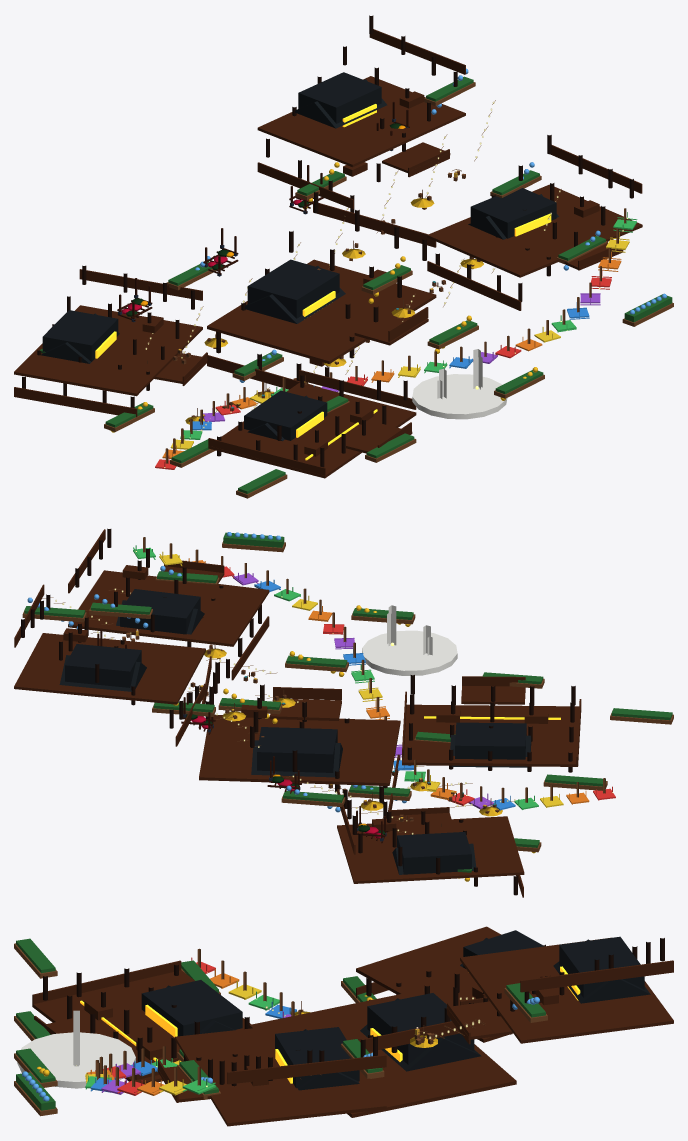
File: ul_w4_03_me_linh_coffee_garden_ta_nung_terrace.glb
3 views of the same model, one above another, from view 1: azimuth 30°, elevation 25°; view 2: azimuth 150°, elevation 25°; view 3: azimuth 270°, elevation 25° (orthographic). The views are drawn at different scales.
Visible parts, largest first — view 1: node_CauDat_Weathered_Pine_Deck, node_AFrame_Cafe_Shingle_Roof, node_ta_nung_robusta_coffee_foliage, node_Stilt_Timber_Columns, node_melinh_timber_stilt_cedar, node_melinh_heavens_gate_white, node_CloudDeck_Warm_StringLights, node_melinh_sunflower_marigold_gold, node_pergola_cedar_wood, node_rainbow_bridge_orange, node_rainbow_bridge_yellow, node_rainbow_bridge_red (+2 smaller); view 2: node_CauDat_Weathered_Pine_Deck, node_AFrame_Cafe_Shingle_Roof, node_ta_nung_robusta_coffee_foliage, node_Stilt_Timber_Columns, node_melinh_timber_stilt_cedar, node_melinh_heavens_gate_white, node_melinh_sunflower_marigold_gold, node_rainbow_bridge_green, node_rainbow_bridge_yellow, node_rainbow_bridge_orange, node_pergola_cedar_wood, node_rainbow_bridge_blue (+4 smaller); view 3: node_CauDat_Weathered_Pine_Deck, node_AFrame_Cafe_Shingle_Roof, node_ta_nung_robusta_coffee_foliage, node_melinh_heavens_gate_white, node_Stilt_Timber_Columns, node_melinh_timber_stilt_cedar, node_CloudDeck_Warm_StringLights, node_rainbow_bridge_green, node_rainbow_bridge_yellow, node_rainbow_bridge_blue, node_rainbow_bridge_orange, node_rainbow_bridge_red (+3 smaller).
Boxes of the visible parts, x1,y1,x2,y2 form: node_CauDat_Weathered_Pine_Deck: [14, 29, 642, 478]; node_AFrame_Cafe_Shingle_Roof: [41, 72, 558, 441]; node_ta_nung_robusta_coffee_foliage: [39, 76, 672, 493]; node_Stilt_Timber_Columns: [22, 15, 633, 467]; node_melinh_timber_stilt_cedar: [104, 82, 673, 498]; node_melinh_heavens_gate_white: [412, 349, 507, 419]; node_CloudDeck_Warm_StringLights: [95, 104, 551, 460]; node_melinh_sunflower_marigold_gold: [111, 162, 537, 432]; node_pergola_cedar_wood: [117, 101, 409, 321]; node_rainbow_bridge_orange: [162, 252, 621, 458]; node_rainbow_bridge_yellow: [170, 232, 629, 449]; node_rainbow_bridge_red: [155, 270, 611, 469]; node_CauDat_Weathered_Pine_Deck: [14, 529, 581, 897]; node_AFrame_Cafe_Shingle_Roof: [59, 589, 531, 874]; node_ta_nung_robusta_coffee_foliage: [24, 532, 672, 872]; node_Stilt_Timber_Columns: [21, 528, 575, 895]; node_melinh_timber_stilt_cedar: [22, 537, 673, 852]; node_melinh_heavens_gate_white: [362, 605, 457, 675]; node_melinh_sunflower_marigold_gold: [173, 605, 535, 881]; node_rainbow_bridge_green: [133, 545, 538, 809]; node_rainbow_bridge_yellow: [159, 551, 563, 807]; node_rainbow_bridge_orange: [185, 558, 589, 804]; node_pergola_cedar_wood: [97, 629, 388, 843]; node_rainbow_bridge_blue: [254, 579, 515, 810]; node_CauDat_Weathered_Pine_Deck: [32, 926, 673, 1126]; node_AFrame_Cafe_Shingle_Roof: [141, 930, 650, 1090]; node_ta_nung_robusta_coffee_foliage: [16, 938, 545, 1110]; node_melinh_heavens_gate_white: [17, 1010, 135, 1088]; node_Stilt_Timber_Columns: [43, 938, 664, 1086]; node_melinh_timber_stilt_cedar: [14, 943, 547, 1116]; node_CloudDeck_Warm_StringLights: [80, 966, 580, 1083]; node_rainbow_bridge_green: [85, 991, 279, 1094]; node_rainbow_bridge_yellow: [85, 980, 261, 1095]; node_rainbow_bridge_blue: [90, 1001, 296, 1092]; node_rainbow_bridge_orange: [87, 969, 239, 1095]; node_rainbow_bridge_red: [95, 957, 215, 1095].
Bounding box in the file's own units: 73.13 × 30.94 × 64.6.
